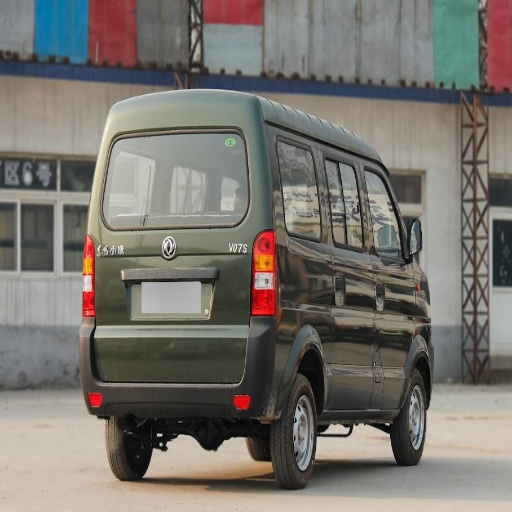back_bumper: (82, 318, 292, 418)
back_glass: (112, 129, 244, 212)
back_right_door: (326, 245, 370, 368), (310, 146, 363, 191)
tailgate: (95, 207, 244, 315)
trunk: (97, 223, 266, 376), (373, 313, 424, 382)
